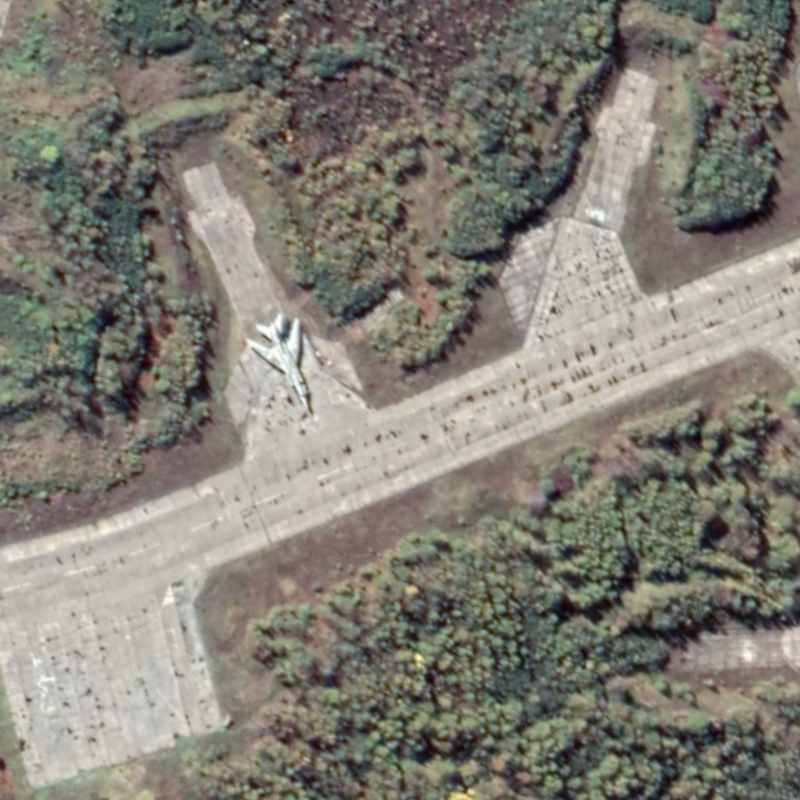A12: (244, 311, 315, 423)
